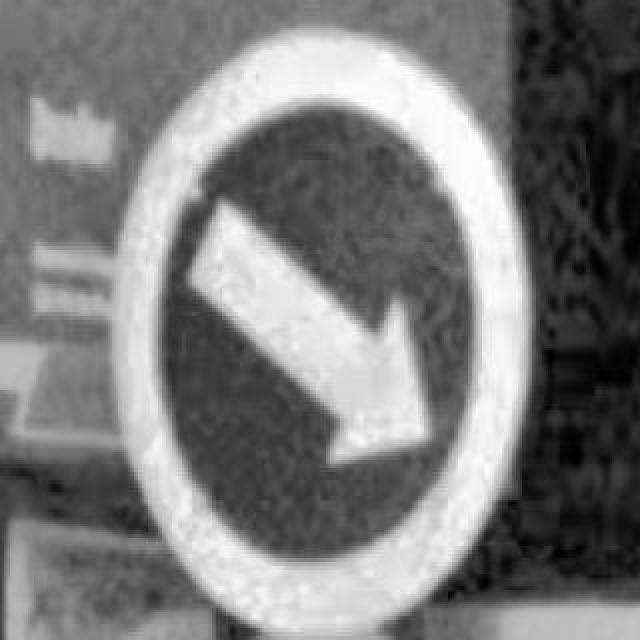keep right: (104, 20, 536, 636)
